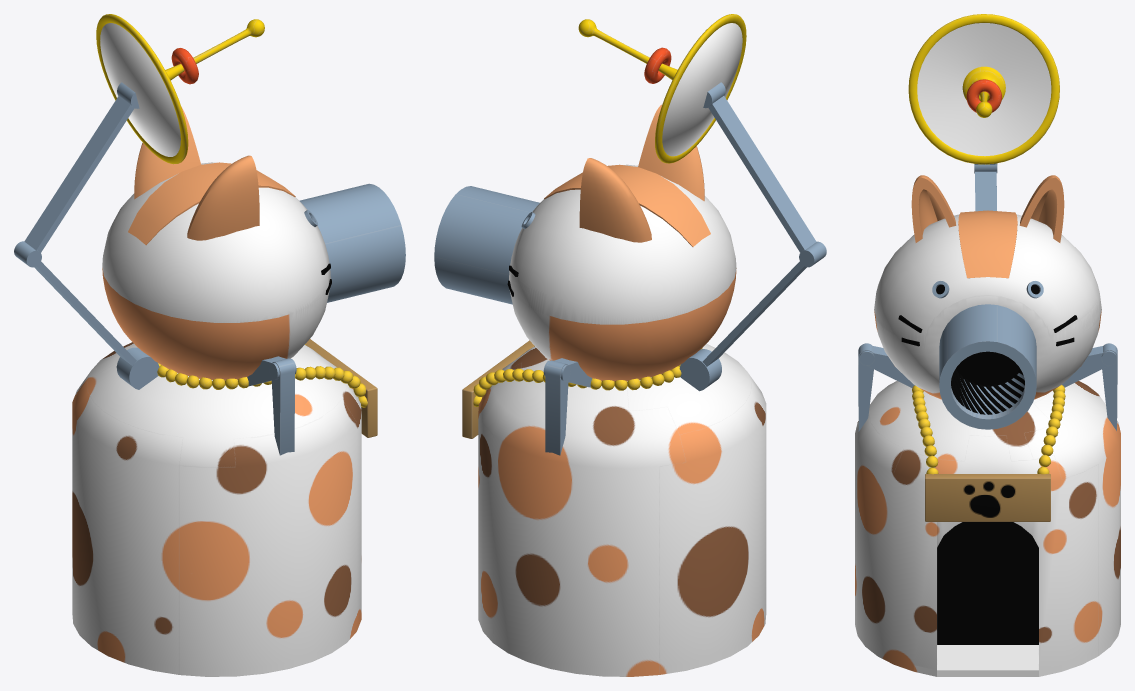
File: Cat_Cannon.fbx
The picture shows the model from 3 angles, left to right: view 1: azimuth 30°, elevation 25°; view 2: azimuth 150°, elevation 25°; view 3: azimuth 270°, elevation 25°; orthographic projection. The views are drawn at different scales.
Parts seen in each view (by area): view 1: Base, Cannon, Barrel, Radar, RadarRod2, RadarRod1, Leash, Support2, NameTag, Antenna; view 2: Base, Cannon, Barrel, Radar, RadarRod2, RadarRod1, Support2.001, Leash, NameTag, Antenna; view 3: Base, Cannon, Radar, Barrel, NameTag, Leash, Support2, Support2.001, Antenna, RadarRod1, Support, Support.001.
Boxes of the visible parts, box(x1,y1,x2,y2) form: Base: box(72, 342, 361, 676); Cannon: box(102, 106, 331, 380); Barrel: box(299, 183, 405, 302); Radar: box(96, 14, 198, 164); RadarRod2: box(14, 96, 134, 267); RadarRod1: box(34, 261, 159, 389); Leash: box(157, 344, 367, 407); Support2: box(269, 358, 296, 455); NameTag: box(305, 339, 377, 437); Antenna: box(165, 19, 264, 80); Base: box(478, 343, 766, 676); Cannon: box(507, 104, 736, 381); Barrel: box(434, 186, 539, 304); Radar: box(644, 14, 746, 163); RadarRod2: box(708, 96, 826, 267); RadarRod1: box(679, 261, 806, 391); Support2.001: box(543, 360, 570, 455); Leash: box(473, 346, 702, 406); NameTag: box(462, 340, 534, 438); Antenna: box(578, 19, 677, 80); Base: box(855, 381, 1120, 676); Cannon: box(874, 175, 1101, 399); Radar: box(908, 14, 1059, 164); Barrel: box(939, 304, 1036, 429); NameTag: box(925, 474, 1050, 521); Leash: box(912, 385, 1065, 474); Support2: box(858, 343, 874, 431); Support2.001: box(1101, 343, 1117, 430); Antenna: box(962, 66, 1005, 117); RadarRod1: box(975, 171, 996, 211); Support: box(868, 346, 914, 387); Support.001: box(1062, 346, 1107, 387).
Bounding box in the file's own units: 273 × 449 × 190.
Materials: 1 (1 with a texture image).
